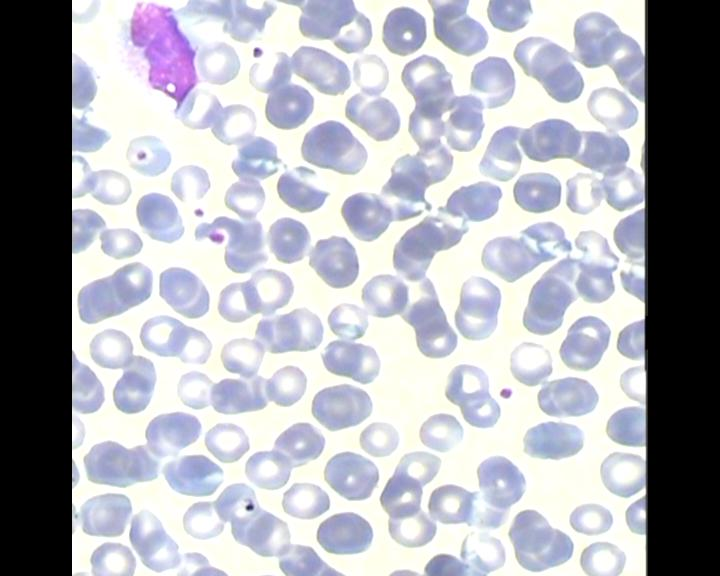mono: (108, 0, 206, 107)
